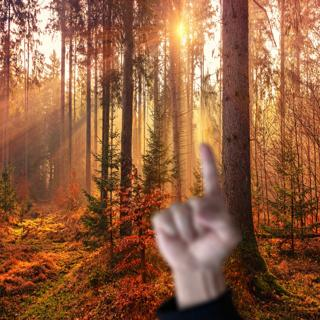IRRITATED: (147, 139, 242, 275)
